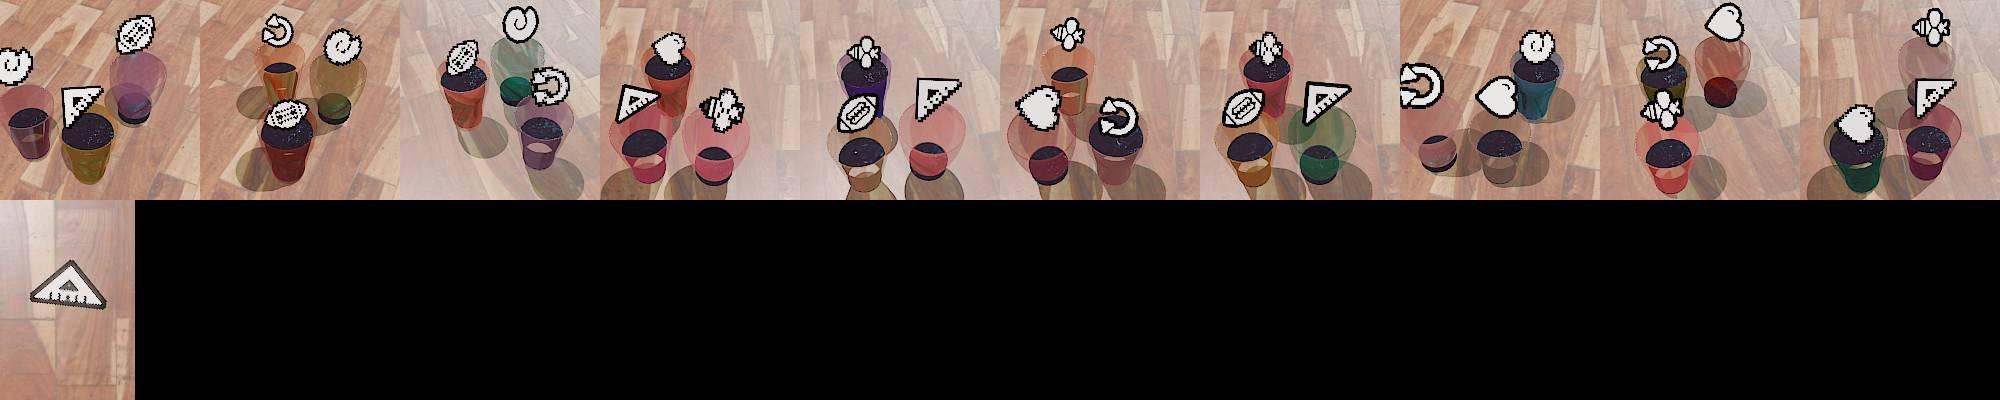icon: (28, 259, 109, 312), (1301, 80, 1353, 128), (1014, 83, 1062, 131), (913, 76, 962, 122), (1401, 61, 1445, 111), (699, 86, 745, 132), (61, 85, 104, 132), (1909, 77, 1958, 118), (1475, 74, 1520, 118), (1097, 95, 1140, 138), (616, 83, 661, 124), (836, 92, 879, 134), (1221, 87, 1265, 128), (1836, 102, 1877, 143), (529, 66, 570, 107), (1704, 2, 1745, 43), (115, 15, 156, 55), (322, 27, 364, 66), (1517, 27, 1559, 66), (264, 98, 311, 132), (1641, 91, 1683, 129), (1641, 35, 1680, 75), (1913, 7, 1952, 47), (502, 4, 539, 44), (650, 30, 688, 67), (1050, 15, 1087, 53), (444, 38, 480, 77), (0, 47, 35, 87), (845, 35, 883, 71), (262, 12, 294, 49), (1255, 31, 1284, 67)
